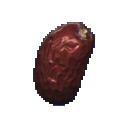gd: (21, 10, 103, 120)
